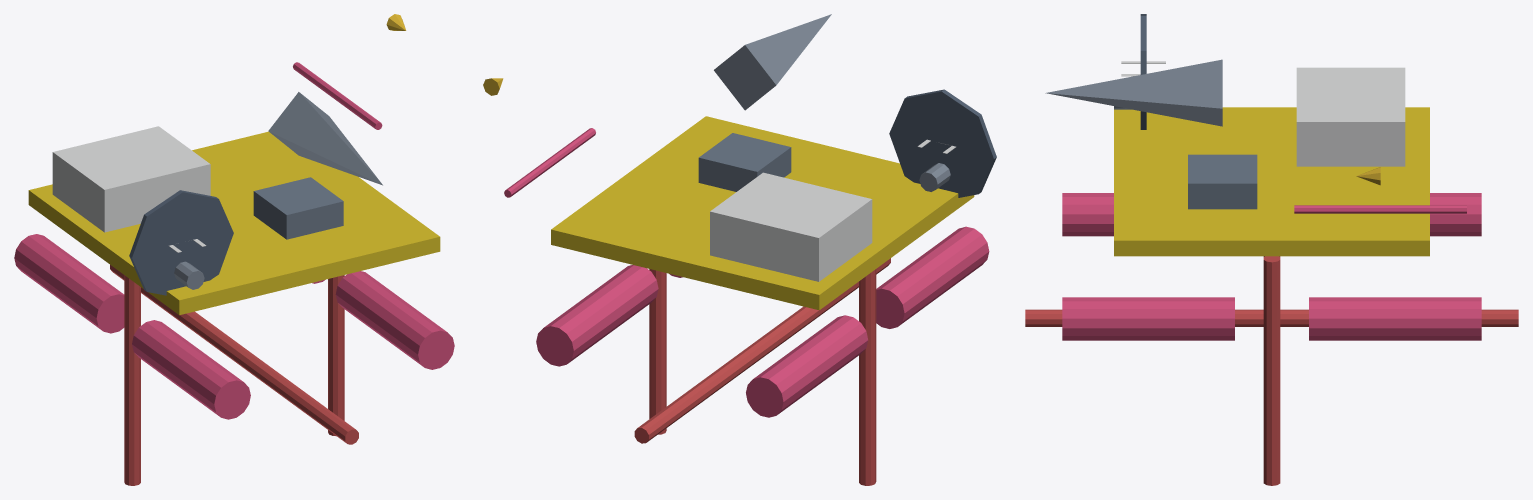
Rendered from oil_rig_platform.glb.
3 views of the same model, side by side, from view 1: azimuth 30°, elevation 25°; view 2: azimuth 150°, elevation 25°; view 3: azimuth 270°, elevation 25° (orthographic). The views are drawn at different scales.
Visible parts, largest first — view 1: world; view 2: world; view 3: world.
Boxes of the visible parts, <box> form: world: <box>14,14,454,485</box>; world: <box>483,14,996,485</box>; world: <box>1025,14,1518,485</box>.
Bounding box in the file's own units: 94.5 × 87.5 × 100.
